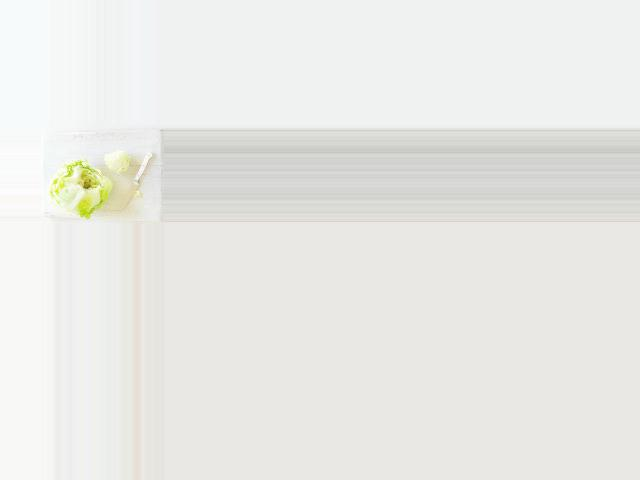lettuce: (43, 159, 106, 216)
